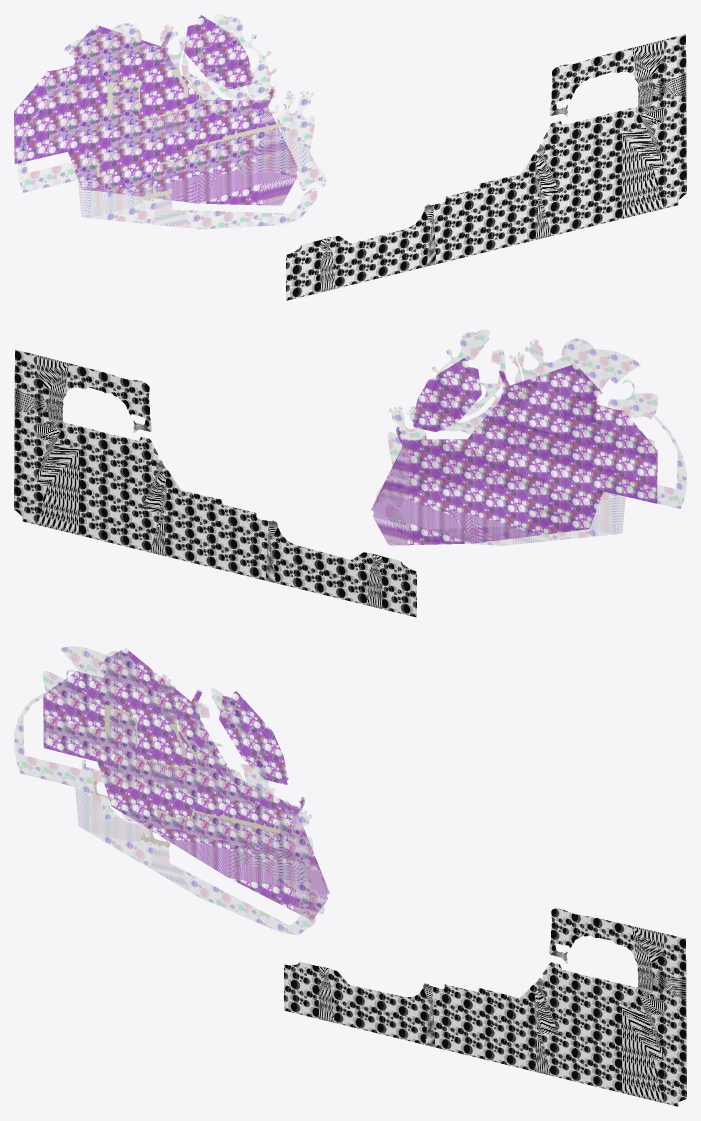
File: tainai03.glb
3 renders of one model, top to bottom at view 1: azimuth 30°, elevation 25°; view 2: azimuth 150°, elevation 25°; view 3: azimuth 330°, elevation 25°, orthographic.
Visible parts, largest first — view 1: tainai03; view 2: tainai03; view 3: tainai03.
Part boxes in pixels (bbox=[...]): tainai03: bbox=[14, 14, 686, 300]; tainai03: bbox=[14, 329, 686, 617]; tainai03: bbox=[14, 646, 686, 1106].
Size of the model in its own units: 6232 by 2819 by 300.
4 materials, 4 textured.
